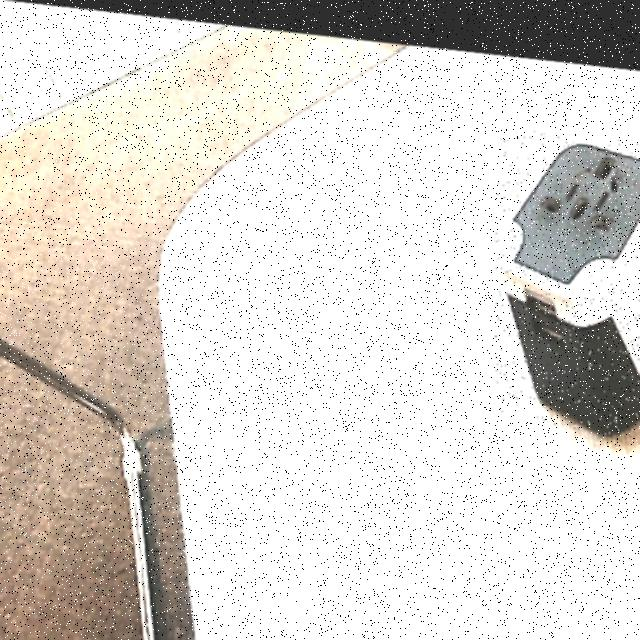adapter: (495, 114, 640, 423)
